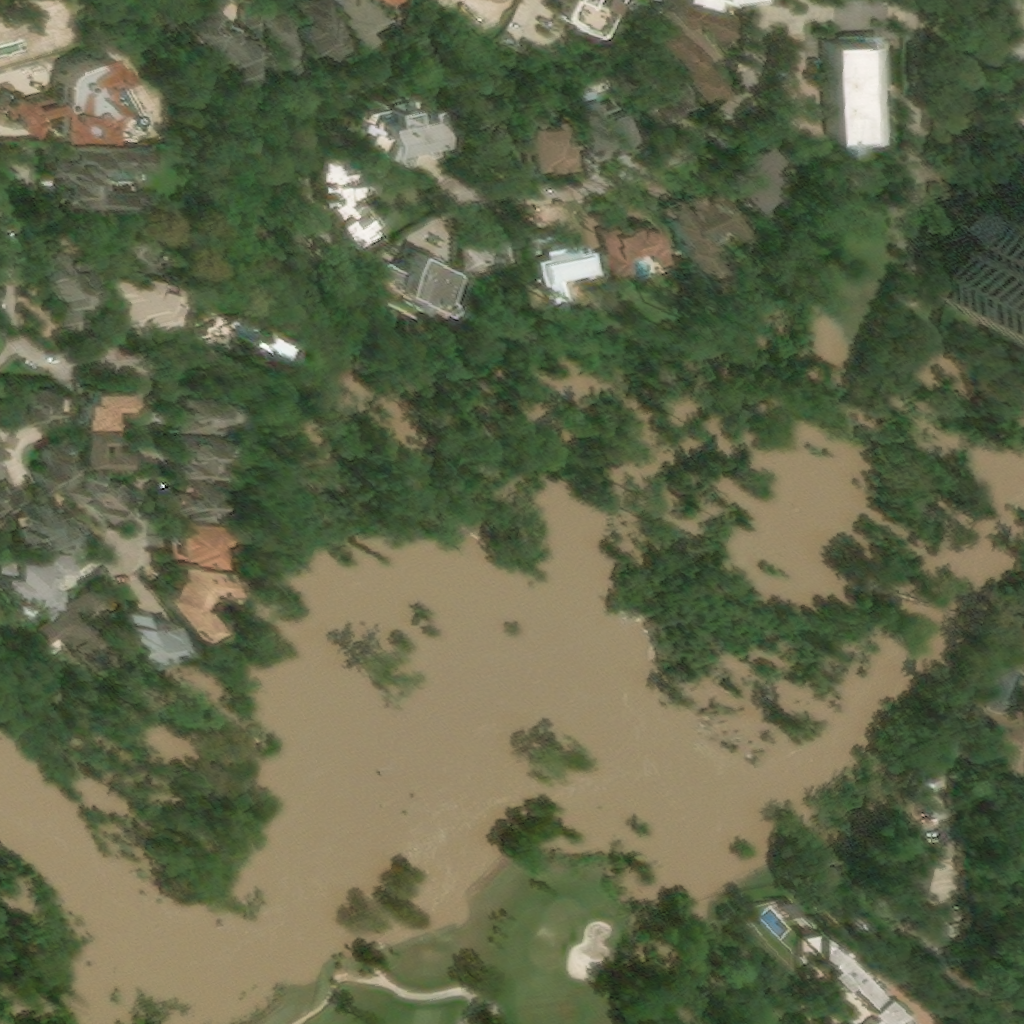minor_damage: (931, 159, 1023, 313), (802, 933, 900, 1023), (37, 590, 107, 677), (663, 183, 744, 257), (374, 248, 452, 314), (826, 43, 877, 140), (0, 555, 77, 619), (154, 560, 214, 627), (595, 223, 662, 279), (988, 652, 1023, 722), (120, 606, 167, 658), (170, 434, 218, 476), (171, 391, 220, 431), (171, 519, 215, 558), (220, 311, 265, 349), (168, 490, 210, 517), (910, 861, 934, 897), (877, 893, 906, 921), (907, 895, 930, 926)
no_damage: (2, 49, 120, 136), (45, 147, 151, 210), (321, 149, 384, 251), (111, 276, 187, 345), (661, 0, 734, 71), (180, 2, 248, 76), (366, 106, 447, 166), (41, 252, 102, 326), (575, 89, 638, 156), (10, 495, 78, 552), (716, 141, 775, 205), (240, 7, 296, 73), (643, 15, 703, 75), (0, 29, 76, 71), (284, 0, 338, 59), (64, 471, 126, 522), (551, 0, 633, 32), (525, 124, 574, 172), (35, 442, 82, 492), (683, 57, 730, 105), (328, 0, 378, 43), (19, 388, 59, 432), (83, 429, 128, 468), (83, 391, 129, 429), (639, 108, 682, 140), (526, 94, 563, 125), (0, 482, 23, 514), (0, 445, 9, 477)
